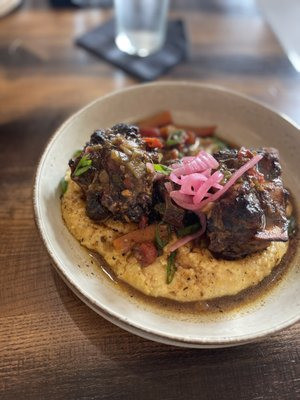pizza: (112, 0, 172, 58), (256, 0, 300, 76)
